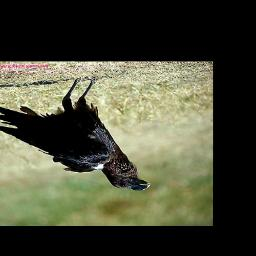Crow: (0, 77, 151, 191)
